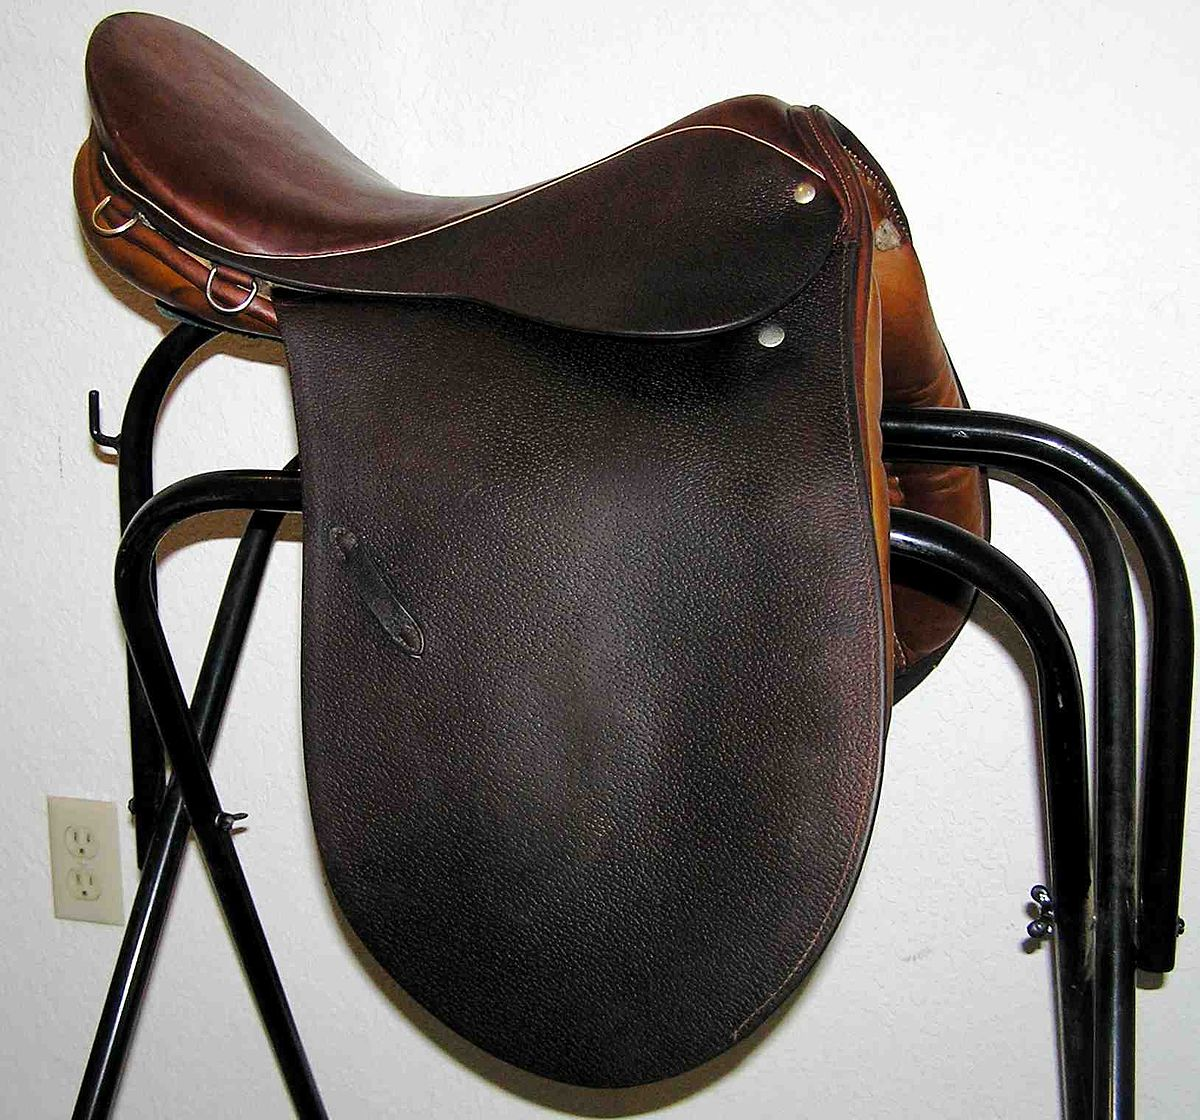saddle: (60, 17, 1075, 916)
